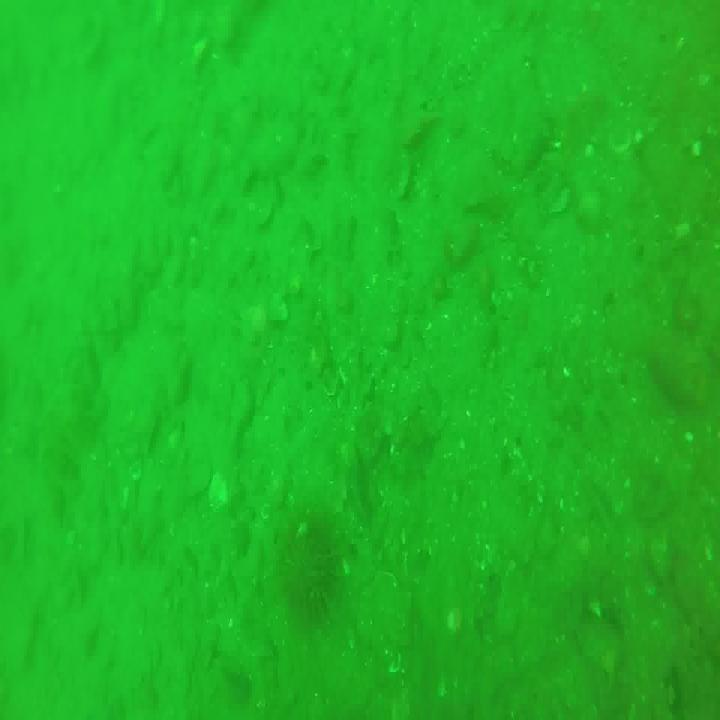echinus: (278, 505, 343, 632)
scallop: (210, 472, 230, 509), (446, 609, 464, 630)
